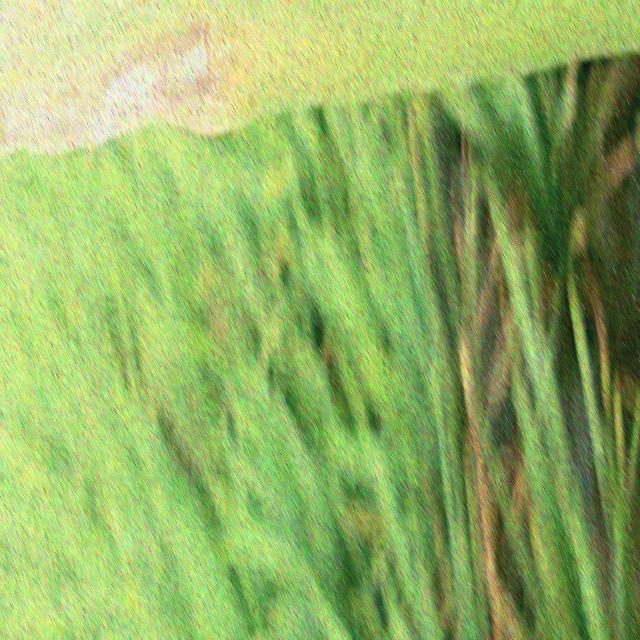LEAF BLAST: (0, 16, 212, 147), (32, 0, 36, 4)
